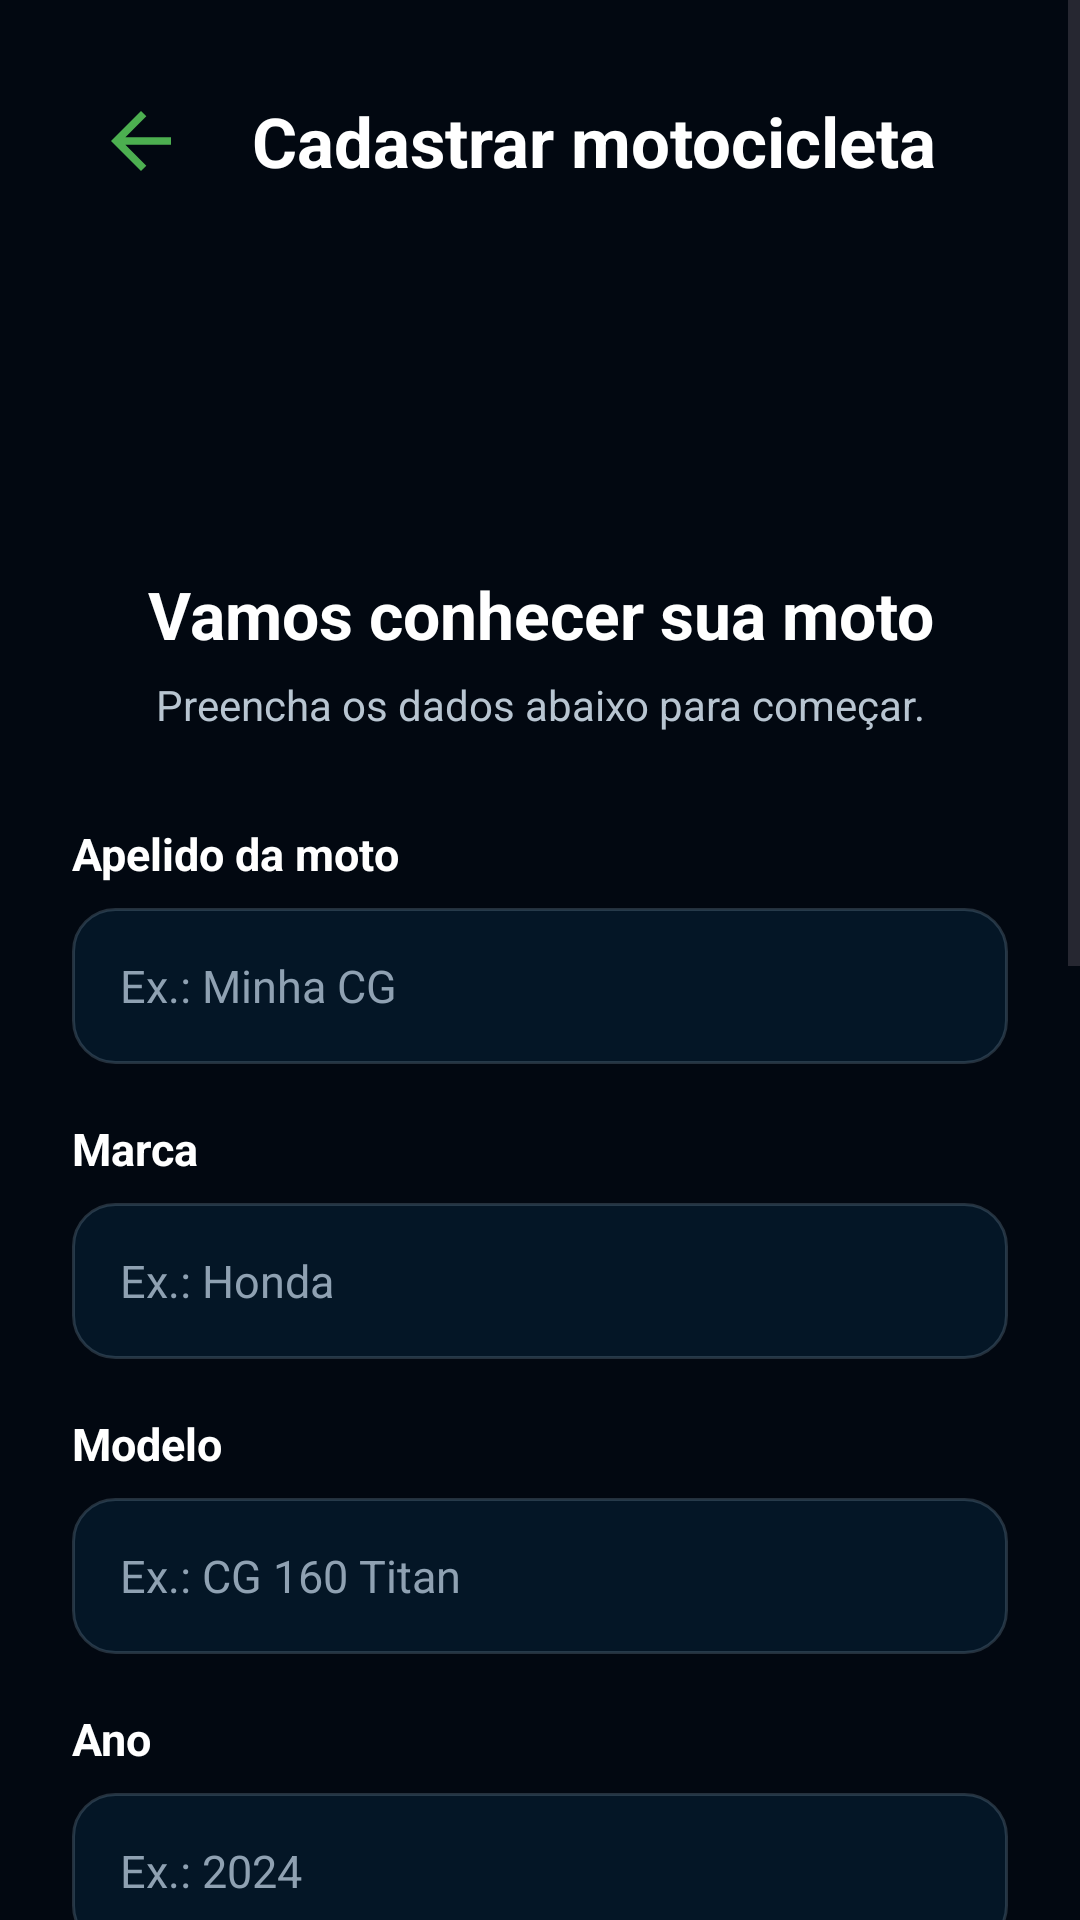

Screen size 1080x1920. Icon name, then its center in pixels as [x,y]:
Voltar: [141,141]
